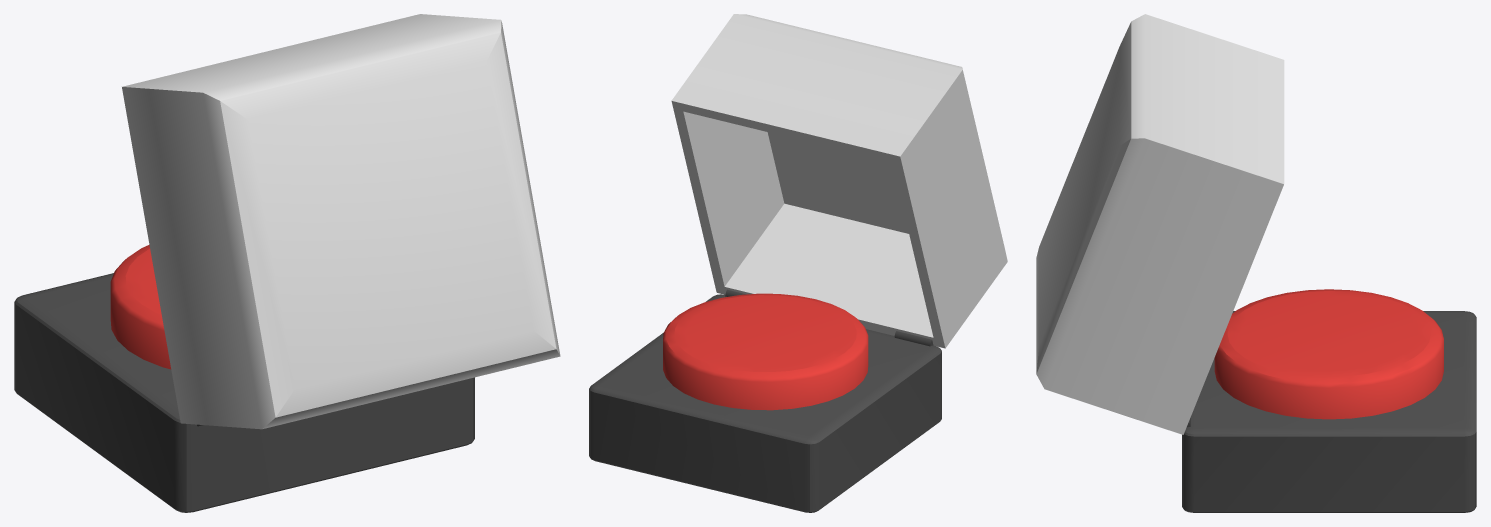
The model's file is Flipbutton.fbx.
3 renders of one model, left to right at view 1: azimuth 30°, elevation 25°; view 2: azimuth 150°, elevation 25°; view 3: azimuth 270°, elevation 25°, orthographic. The views are drawn at different scales.
Visible parts, largest first — view 1: Cube.001, Cylinder; view 2: Cube.001, Cylinder; view 3: Cube.001, Cylinder.
Boxes of the visible parts, box(x1,y1,x2,y2) form: Cube.001: box(14, 14, 560, 512); Cylinder: box(110, 245, 171, 369); Cube.001: box(589, 14, 1007, 512); Cylinder: box(663, 293, 868, 410); Cube.001: box(1036, 14, 1476, 512); Cylinder: box(1214, 289, 1443, 419).
Bounding box in the file's own units: 257 × 362 × 383.
